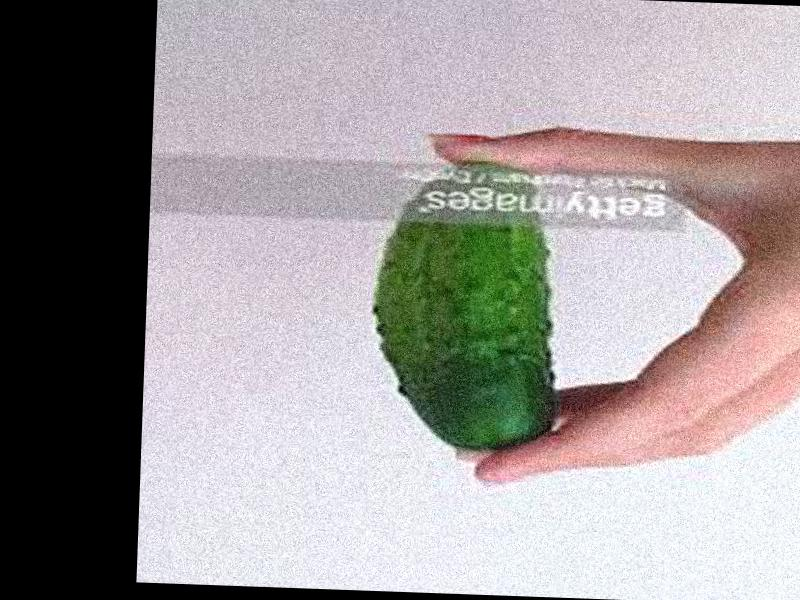Cucumber: (367, 157, 561, 453)
